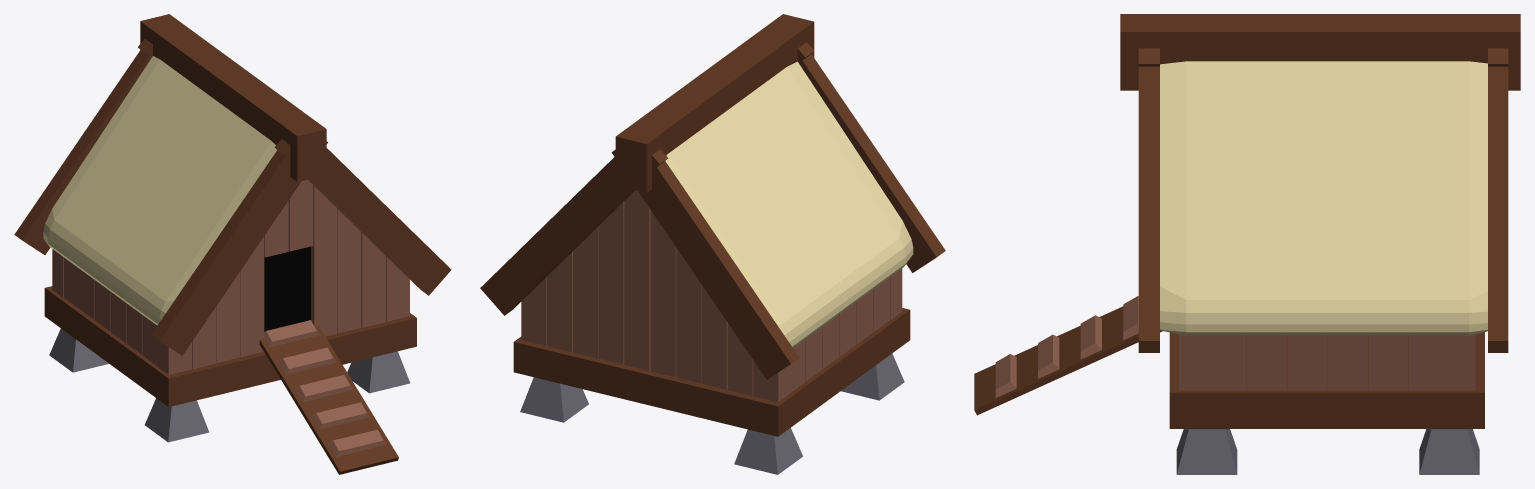
File: ExplodedChickenCoup.fbx
3 views of the same model, side by side, from view 1: azimuth 30°, elevation 25°; view 2: azimuth 150°, elevation 25°; view 3: azimuth 270°, elevation 25° (orthographic). The views are drawn at different scales.
Visible parts, largest first — view 1: ChickenCoup.048, ChickenCoup.038, ChickenCoup.040, ChickenCoup.041, ChickenCoup.043, ChickenCoup.042, ChickenCoup.037, ChickenCoup.019, ChickenCoup.024, ChickenCoup.017, ChickenCoup.018, ChickenCoup.005 (+16 smaller); view 2: ChickenCoup.048, ChickenCoup.038, ChickenCoup.041, ChickenCoup.037, ChickenCoup.044, ChickenCoup.043, ChickenCoup.014, ChickenCoup.010, ChickenCoup.015, ChickenCoup.011, ChickenCoup.007, ChickenCoup.008 (+14 smaller); view 3: ChickenCoup.001, ChickenCoup.041, ChickenCoup.038, ChickenCoup.040, ChickenCoup.042, ChickenCoup.044, ChickenCoup.046, ChickenCoup.045, ChickenCoup.025, ChickenCoup.027, ChickenCoup.029, ChickenCoup.026 (+4 smaller).
Part boxes in pixels (x1,y1,x2,y2): ChickenCoup.048: (43, 56, 276, 325); ChickenCoup.038: (44, 286, 416, 406); ChickenCoup.040: (259, 320, 398, 474); ChickenCoup.041: (140, 14, 326, 181); ChickenCoup.043: (151, 141, 327, 355); ChickenCoup.042: (274, 139, 451, 295); ChickenCoup.037: (14, 49, 152, 254); ChickenCoup.019: (311, 185, 337, 336); ChickenCoup.024: (264, 246, 310, 331); ChickenCoup.017: (337, 209, 361, 333); ChickenCoup.018: (240, 236, 264, 356); ChickenCoup.005: (361, 232, 385, 327); ChickenCoup.048: (665, 61, 913, 347); ChickenCoup.038: (513, 308, 910, 436); ChickenCoup.041: (615, 14, 814, 192); ChickenCoup.037: (611, 149, 799, 379); ChickenCoup.044: (480, 149, 667, 315); ChickenCoup.043: (797, 54, 945, 272); ChickenCoup.014: (624, 190, 650, 370); ChickenCoup.010: (598, 201, 624, 364); ChickenCoup.015: (650, 210, 676, 377); ChickenCoup.011: (573, 227, 598, 358); ChickenCoup.007: (676, 248, 701, 383); ChickenCoup.008: (701, 285, 727, 389); ChickenCoup.001: (1160, 61, 1487, 335); ChickenCoup.041: (1120, 14, 1520, 90); ChickenCoup.038: (1169, 332, 1484, 428); ChickenCoup.040: (974, 296, 1162, 415); ChickenCoup.042: (1138, 66, 1159, 352); ChickenCoup.044: (1488, 66, 1508, 352); ChickenCoup.046: (1176, 429, 1237, 474); ChickenCoup.045: (1419, 429, 1479, 474); ChickenCoup.025: (1206, 335, 1246, 390); ChickenCoup.027: (1287, 335, 1327, 390); ChickenCoup.029: (1368, 335, 1408, 390); ChickenCoup.026: (1247, 335, 1286, 390).
Size of the model in its own units: 479 by 465 by 610.
